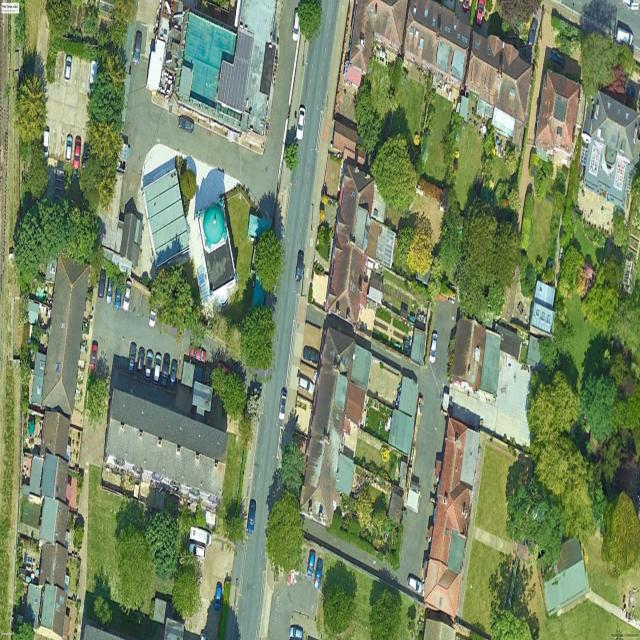Home: (105, 373, 229, 504), (301, 316, 372, 526), (424, 418, 479, 620), (32, 257, 89, 417), (326, 165, 382, 324), (466, 33, 532, 147), (581, 90, 640, 208), (404, 0, 472, 87), (534, 69, 582, 165), (350, 0, 408, 74), (450, 320, 502, 397), (388, 375, 419, 456), (25, 584, 67, 637), (22, 453, 68, 500), (40, 497, 69, 543), (42, 410, 70, 457), (39, 543, 68, 588)
mosque: (200, 199, 236, 293)
